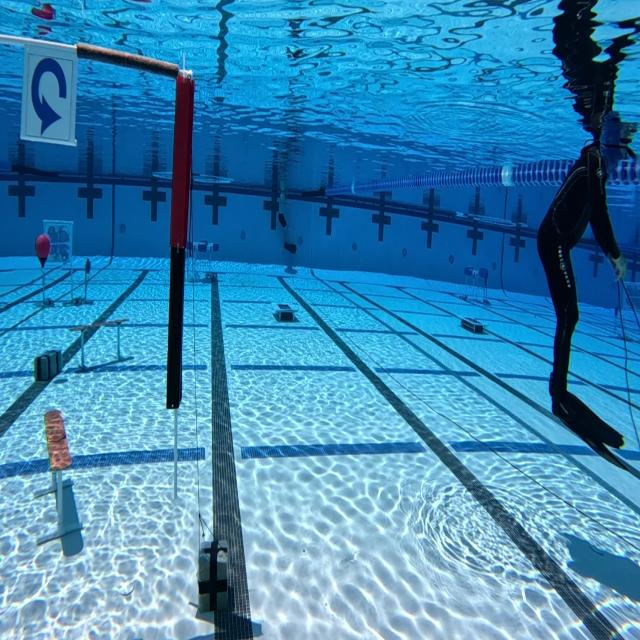blue_side: (21, 37, 80, 160)
